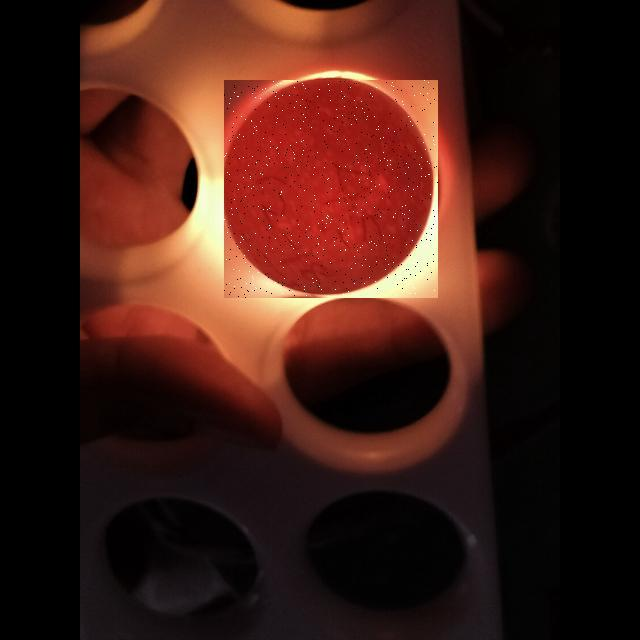Infertile: (224, 80, 438, 298)
